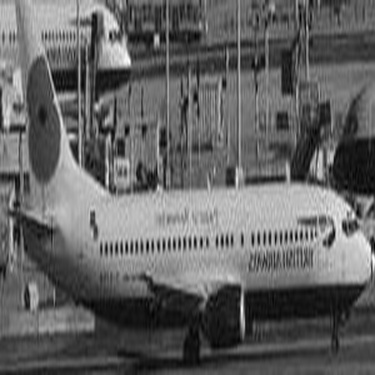airplane: (9, 8, 369, 371), (1, 1, 134, 106), (316, 70, 367, 201)
